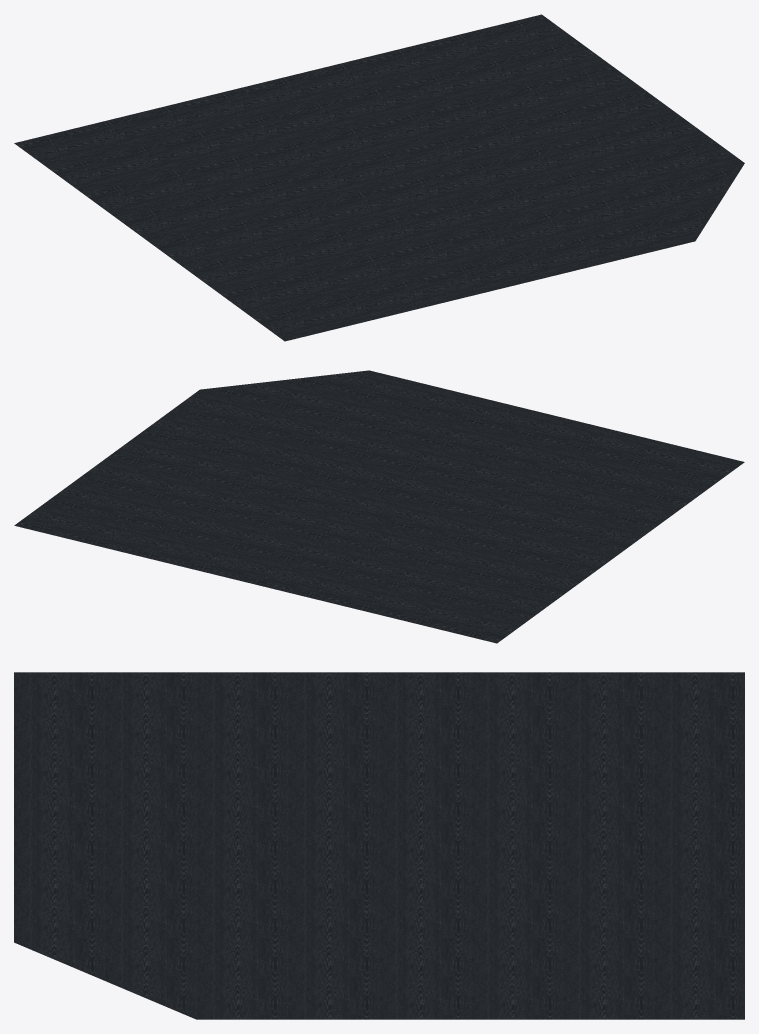
Rendered from GYM_Ceiling_4.fbx.
3 views of the same model, one above another, from view 1: azimuth 30°, elevation 25°; view 2: azimuth 150°, elevation 25°; view 3: azimuth 270°, elevation 25° (orthographic). The views are drawn at different scales.
Parts seen in each view (by area): view 1: GYM_Ceiling_Panel_6; view 2: GYM_Ceiling_Panel_6; view 3: GYM_Ceiling_Panel_6.
Boxes of the visible parts, bbox=[...] form: GYM_Ceiling_Panel_6: bbox=[14, 14, 744, 341]; GYM_Ceiling_Panel_6: bbox=[14, 370, 744, 643]; GYM_Ceiling_Panel_6: bbox=[14, 672, 744, 1019].
Size of the model in its own units: 4.5 by 8.88e-16 by 4.
Materials: 1 (1 with a texture image).
